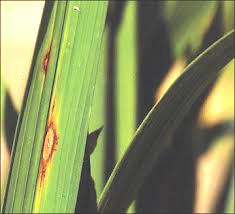1 RiceBlast: (31, 101, 60, 188), (39, 35, 52, 76)
